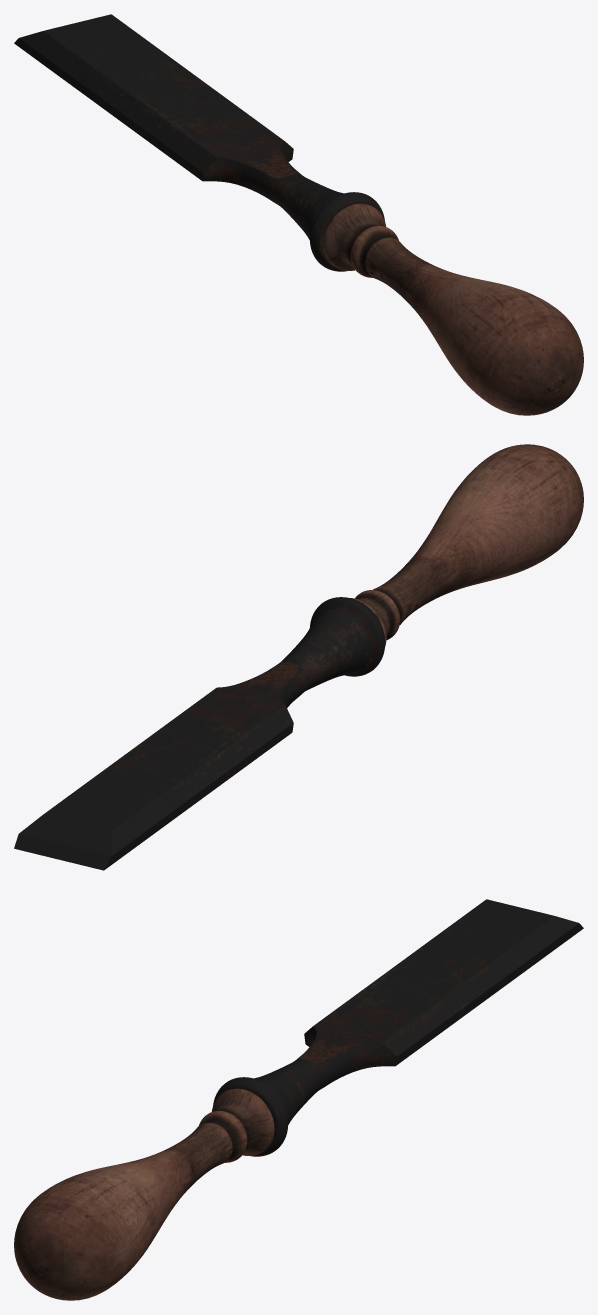
Rendered from Werkzeug_archäologe.gltf.
3 views of the same model, one above another, from view 1: azimuth 30°, elevation 25°; view 2: azimuth 150°, elevation 25°; view 3: azimuth 330°, elevation 25° (orthographic).
Visible parts, largest first — view 1: Subdivision_Surface.2; view 2: Subdivision_Surface.2; view 3: Subdivision_Surface.2.
Boxes of the visible parts, x1,y1,x2,y2 form: Subdivision_Surface.2: (14, 14, 583, 415); Subdivision_Surface.2: (14, 444, 583, 870); Subdivision_Surface.2: (14, 899, 583, 1300).
Size of the model in its own units: 3.78 by 3.78 by 32.32.
Materials: 1 (1 with a texture image).
